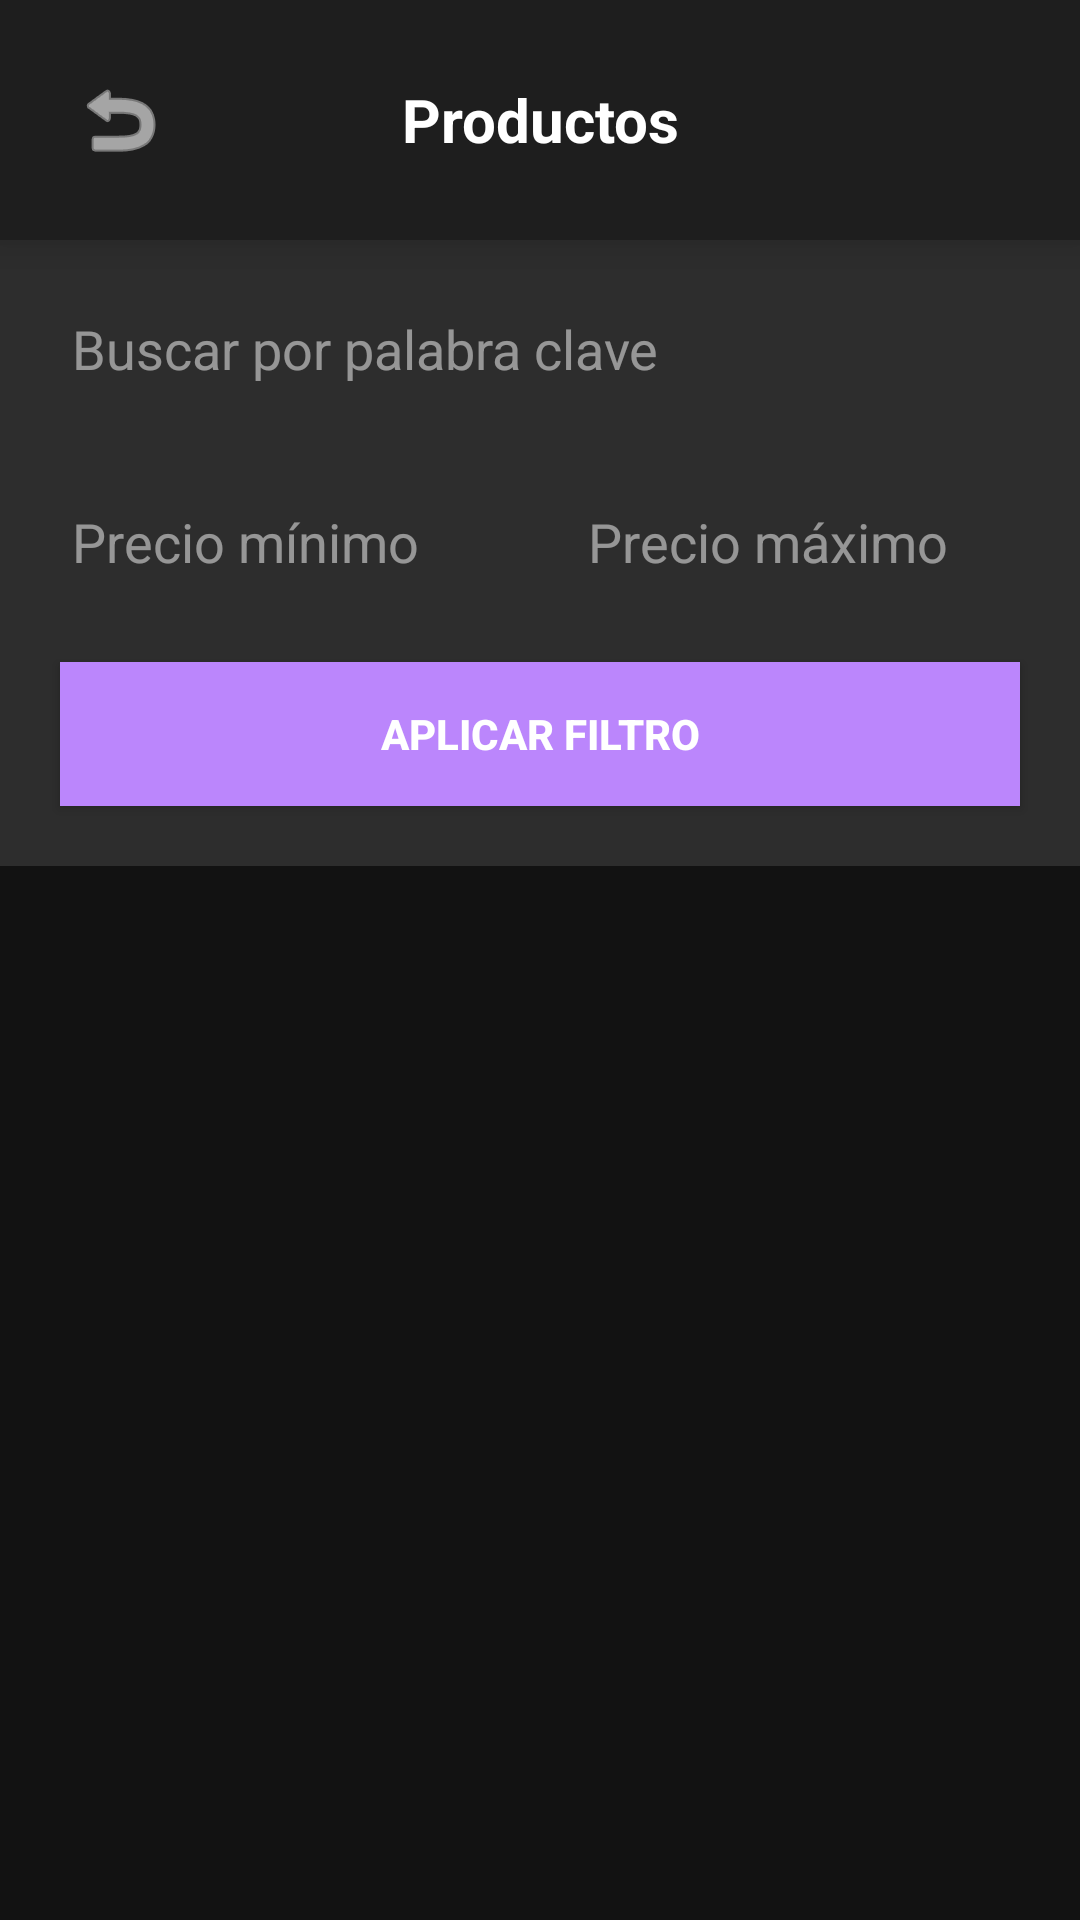

Screen size 1080 × 1920. Icon name, then its box in pixels as region(x1, y1, x2, y2):
Regresar: region(87, 89, 156, 152)
